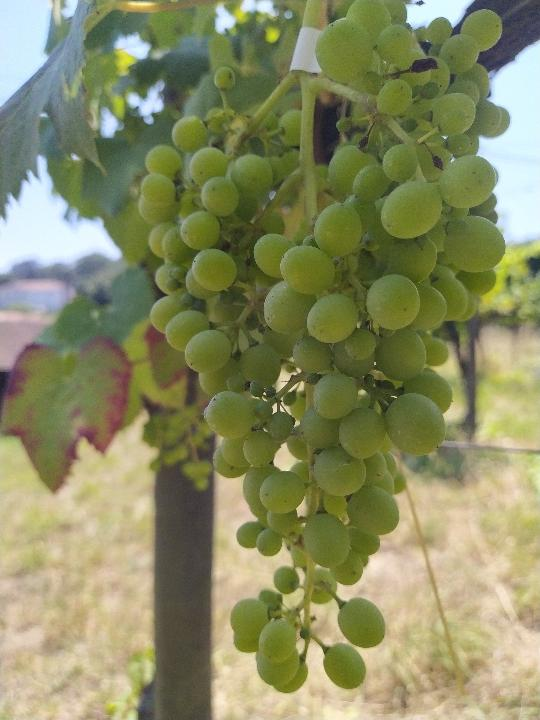grape: (136, 4, 512, 698)
